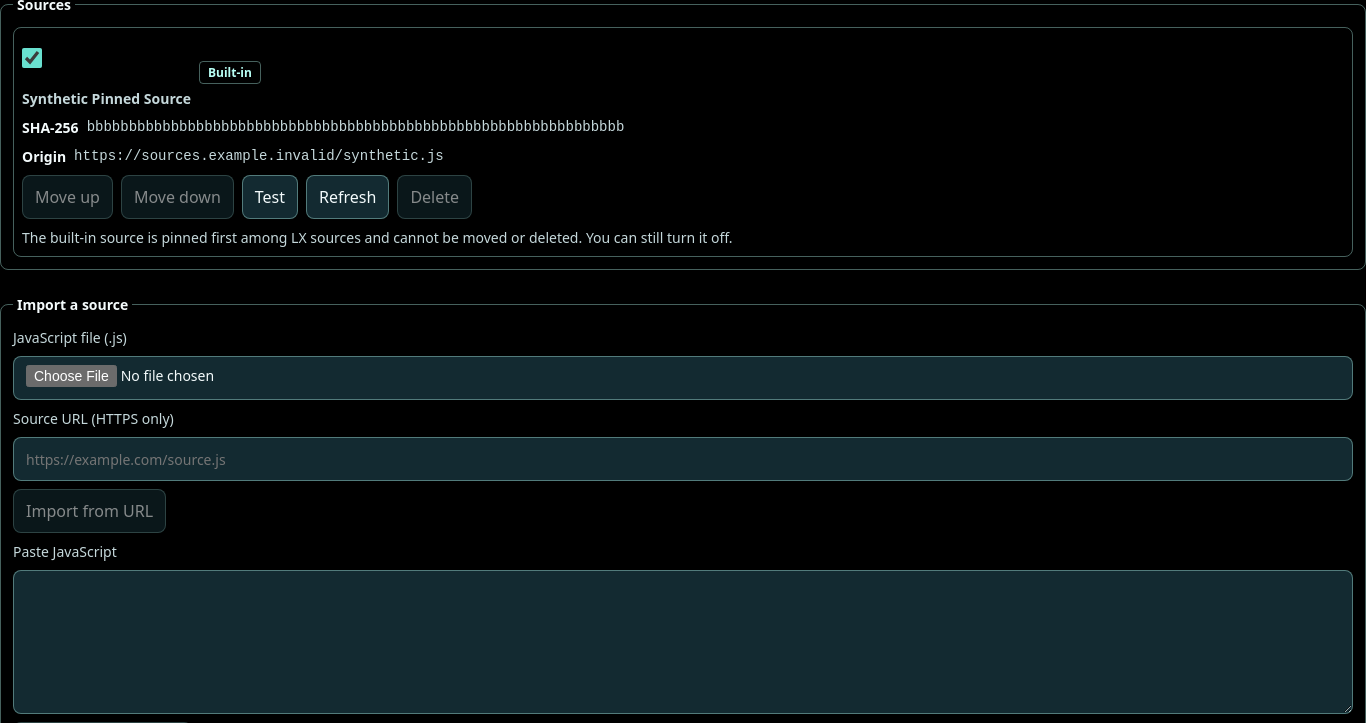
LxSourceManager › imports › imports a pasted script and shows its byte size before saving
Type "/**  * @name Alpha Source  * @version 2.0.0  */ const alpha = 1;" into the text box labelled "Paste JavaScript".
click(683, 642); type("/**  * @name Alpha Source  * @version 2.0.0  */ const alpha = 1;")  # box [13,570,1353,714]
(page scrolled)
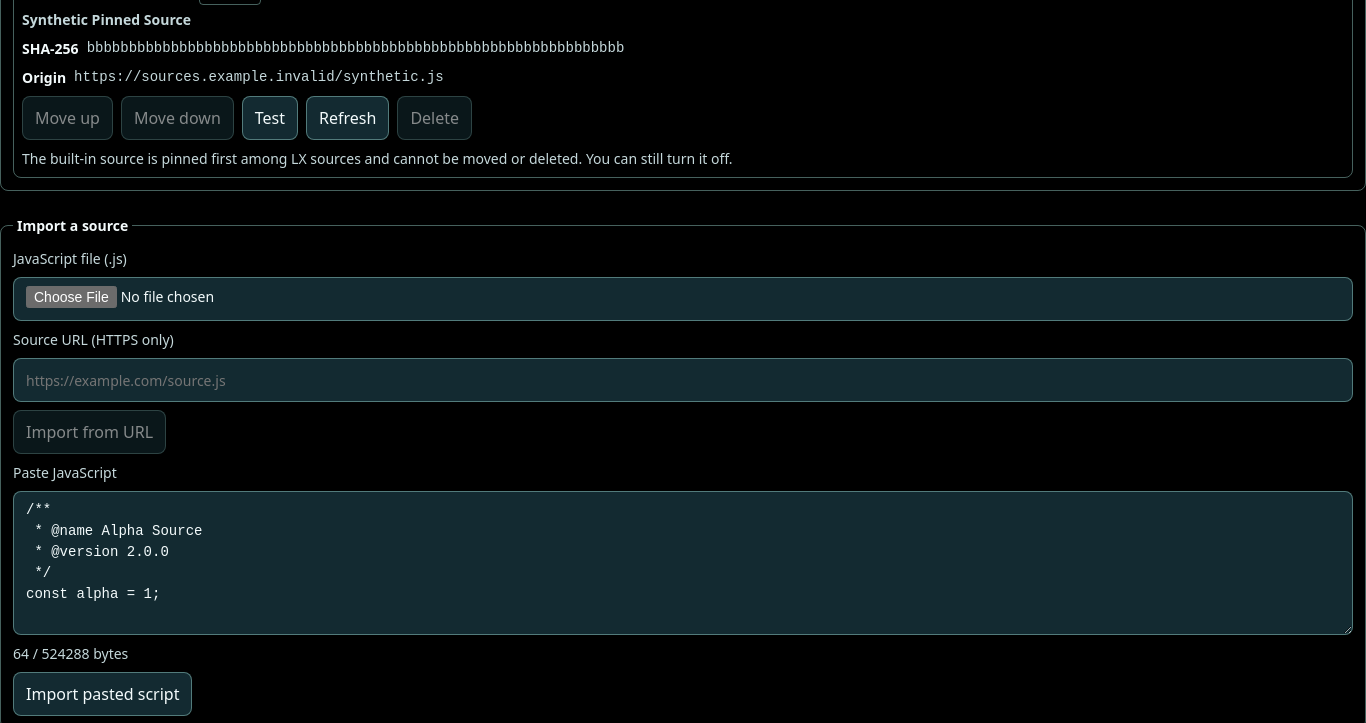
Click the button "Import pasted script".
click(103, 694)  # box [13,672,192,716]
(page scrolled)
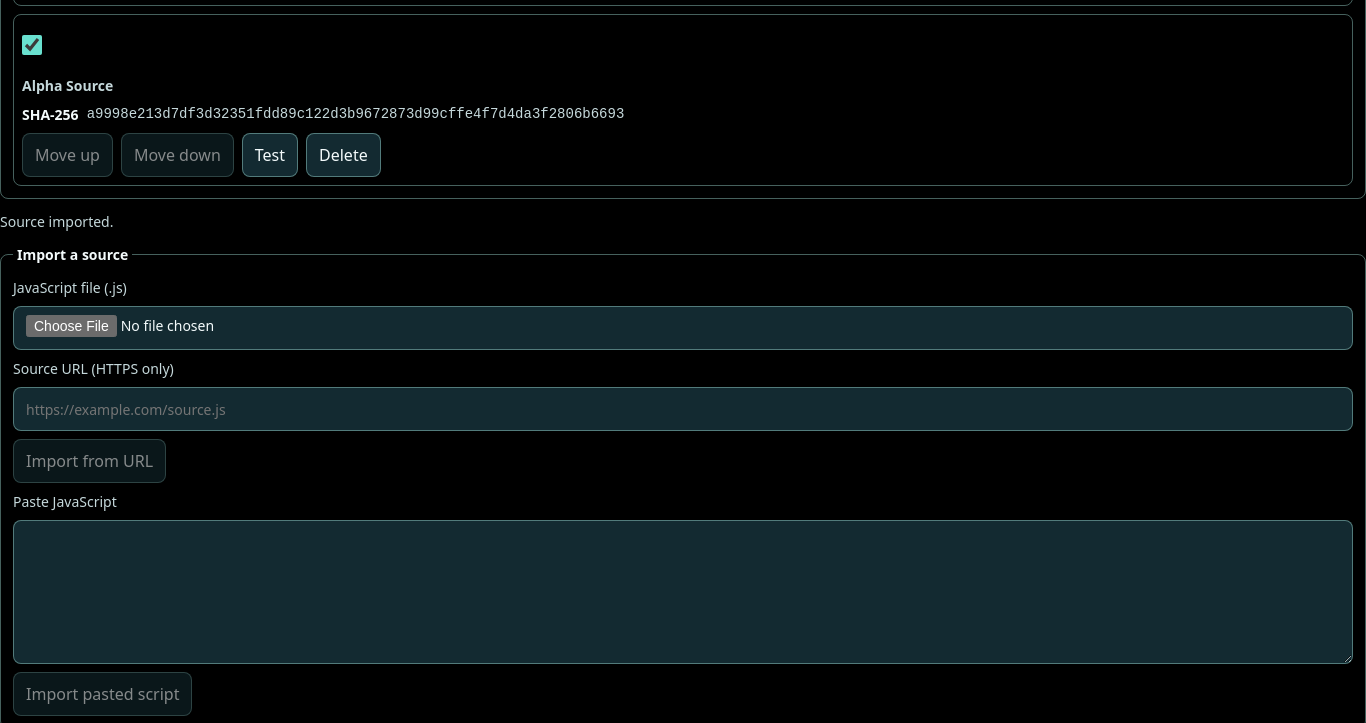
Expected: the message "Source imported." is shown, [0,212,114,231]
Expected: the text box labelled "Paste JavaScript" is empty, [13,520,1353,664]
